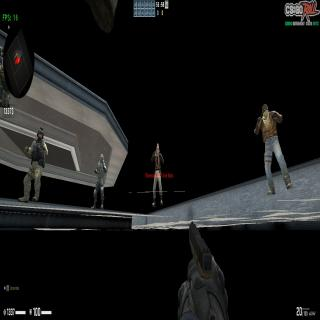CT-Body: (18, 128, 48, 203), (91, 154, 107, 210)
CT-Head: (36, 129, 44, 142), (100, 154, 104, 164)
T-Body: (254, 104, 294, 196), (151, 143, 164, 207)
T-Head: (262, 104, 269, 118), (156, 142, 160, 154)
